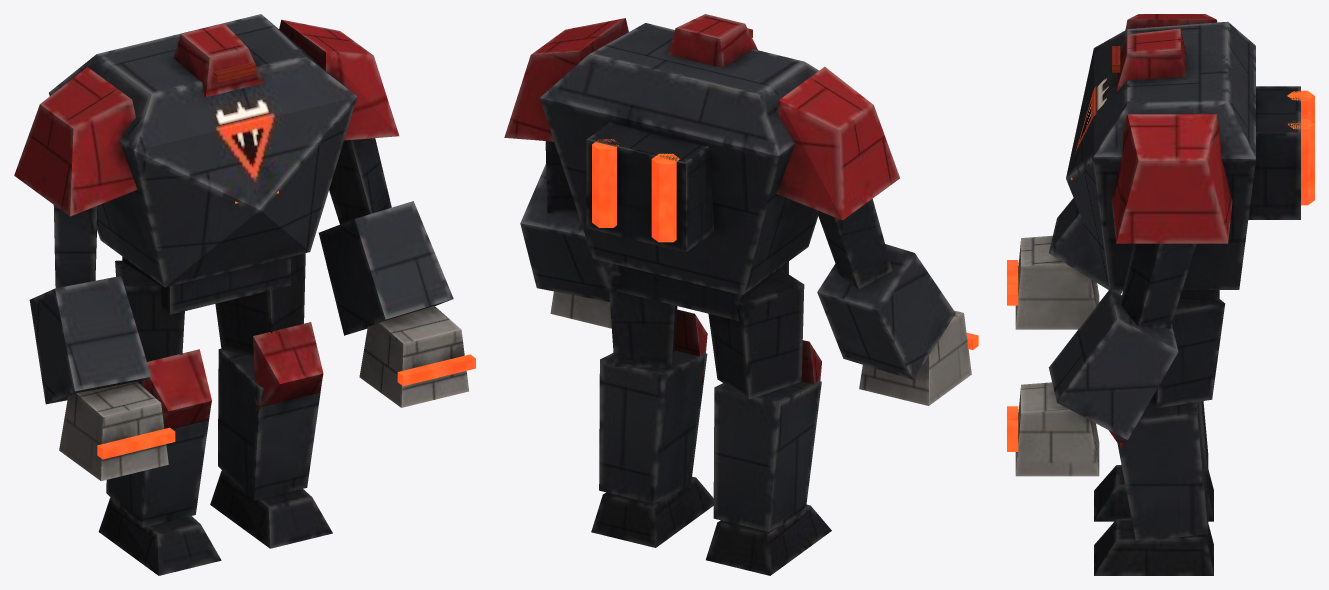
The model's file is s_juggernaut_e.glb.
3 views of the same model, side by side, from view 1: azimuth 30°, elevation 25°; view 2: azimuth 150°, elevation 25°; view 3: azimuth 270°, elevation 25° (orthographic). The views are drawn at different scales.
Visible parts, largest first — view 1: s_juggernaut_e; view 2: s_juggernaut_e; view 3: s_juggernaut_e.
Part boxes in pixels (bbox=[...]): s_juggernaut_e: bbox=[14, 14, 475, 575]; s_juggernaut_e: bbox=[504, 14, 978, 575]; s_juggernaut_e: bbox=[1007, 14, 1314, 575].
Bounding box in the file's own units: 1.56 × 1.95 × 1.1.
Materials: 1 (1 with a texture image).
